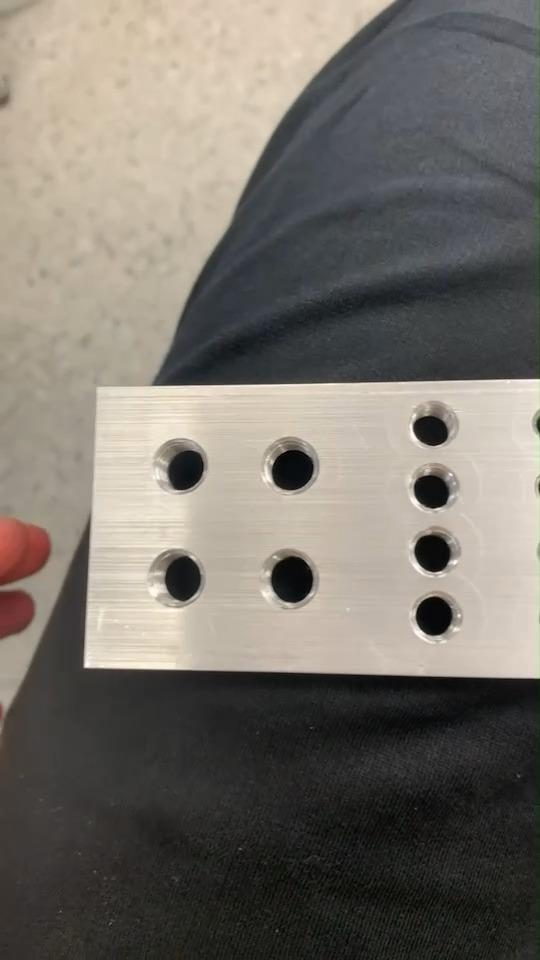hole: (258, 548, 324, 618), (261, 432, 327, 498), (407, 586, 472, 648), (146, 546, 208, 610), (150, 435, 210, 494), (408, 526, 464, 580), (407, 464, 464, 514), (408, 400, 462, 450)
